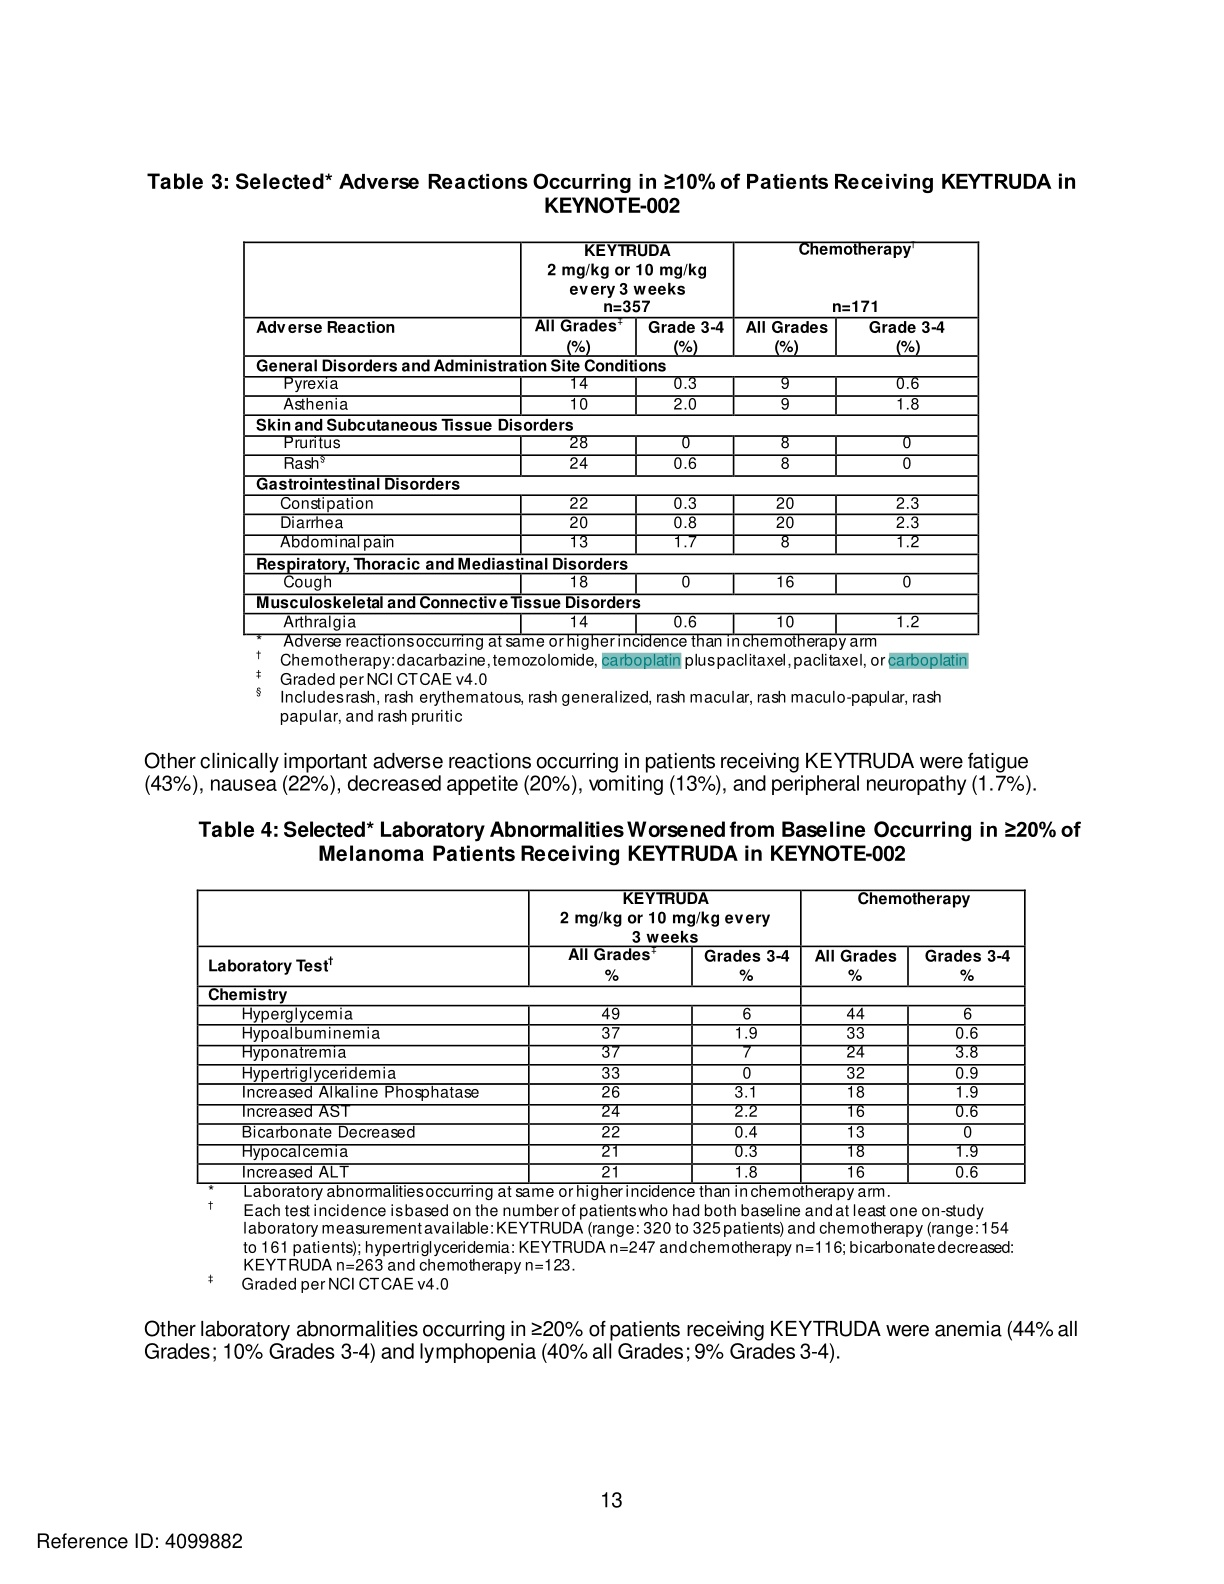merged_cells: (240, 240, 980, 636), (195, 888, 1027, 1185)
